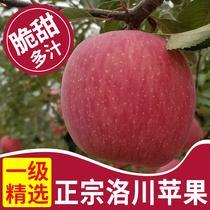apple: (61, 31, 195, 168)
